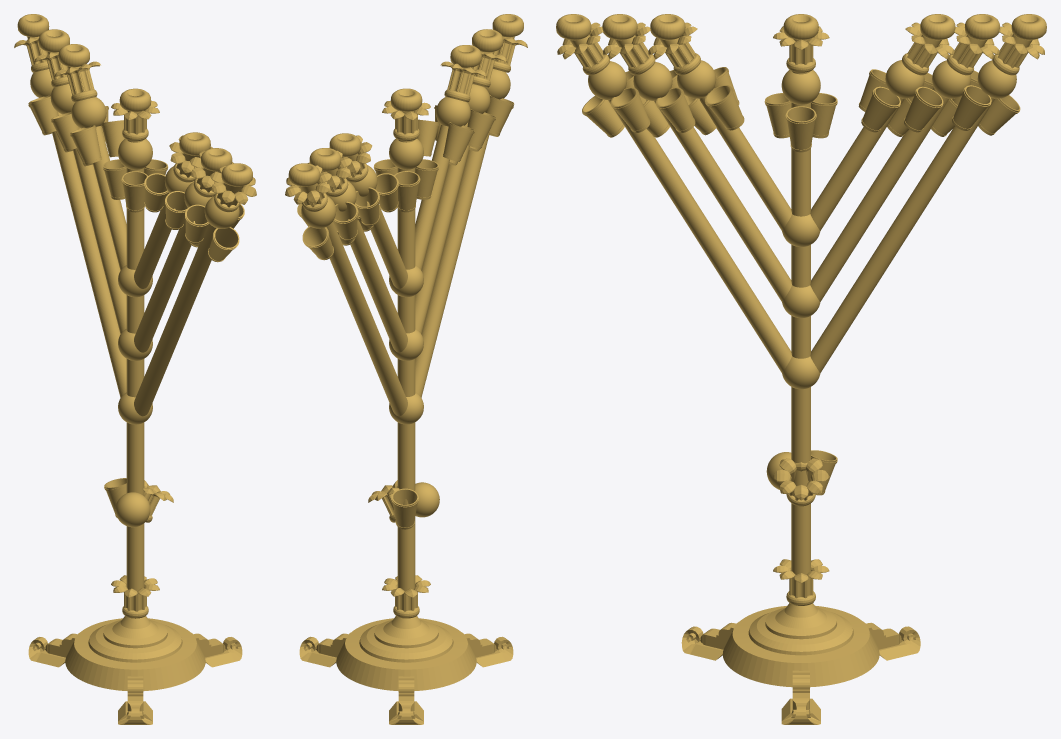
File: menorah_simple.fbx
The picture shows the model from 3 angles, left to right: view 1: azimuth 30°, elevation 25°; view 2: azimuth 150°, elevation 25°; view 3: azimuth 270°, elevation 25°; orthographic projection. The views are drawn at different scales.
Visible parts, largest first — view 1: center_branch, bottom_br_r, bottom_br_l, middle_br_r, middle_br_l, top_br_r, top_br_l, center_branch.003, Plane.029, center_branch.004, center_branch.002, Plane.005 (+34 smaller); view 2: center_branch, bottom_br_l, bottom_br_r, middle_br_l, middle_br_r, top_br_l, top_br_r, center_branch.004, Plane.029, center_branch.003, center_branch.002, Plane.008 (+35 smaller); view 3: center_branch, bottom_br_r, bottom_br_l, middle_br_r, middle_br_l, top_br_l, top_br_r, Plane.030, center_branch.002, Plane.029, center_branch.004, center_branch.003 (+35 smaller).
Part boxes in pixels (x1,y1,x2,y2): center_branch: (65,110,205,691); bottom_br_r: (27,36,126,397); bottom_br_l: (134,183,242,416); middle_br_r: (47,52,126,333); middle_br_l: (134,168,220,352); top_br_r: (68,66,126,270); top_br_l: (134,153,200,288); center_branch.003: (118,676,152,724); Plane.029: (111,575,159,618); center_branch.004: (28,633,78,667); center_branch.002: (192,633,242,667); Plane.005: (210,165,256,212); center_branch: (336,110,476,691); bottom_br_l: (415,36,514,397); bottom_br_r: (299,183,407,416); middle_br_l: (415,51,494,333); middle_br_r: (321,168,407,352); top_br_l: (415,67,473,270); top_br_r: (341,153,407,288); center_branch.004: (389,676,423,724); Plane.029: (382,575,430,618); center_branch.003: (462,632,513,667); center_branch.002: (299,632,350,667); Plane.008: (285,165,331,211); center_branch: (722,39,879,687); bottom_br_r: (810,34,1032,373); bottom_br_l: (570,34,791,373); middle_br_r: (810,35,987,301); middle_br_l: (615,35,791,301); top_br_l: (660,37,791,230); top_br_r: (810,35,941,230); Plane.030: (773,458,829,506); center_branch.002: (781,670,820,724); Plane.029: (773,559,829,605); center_branch.004: (863,621,920,660); center_branch.003: (681,621,739,660).
Bounding box in the file's own units: 53.89 × 184 × 125.
